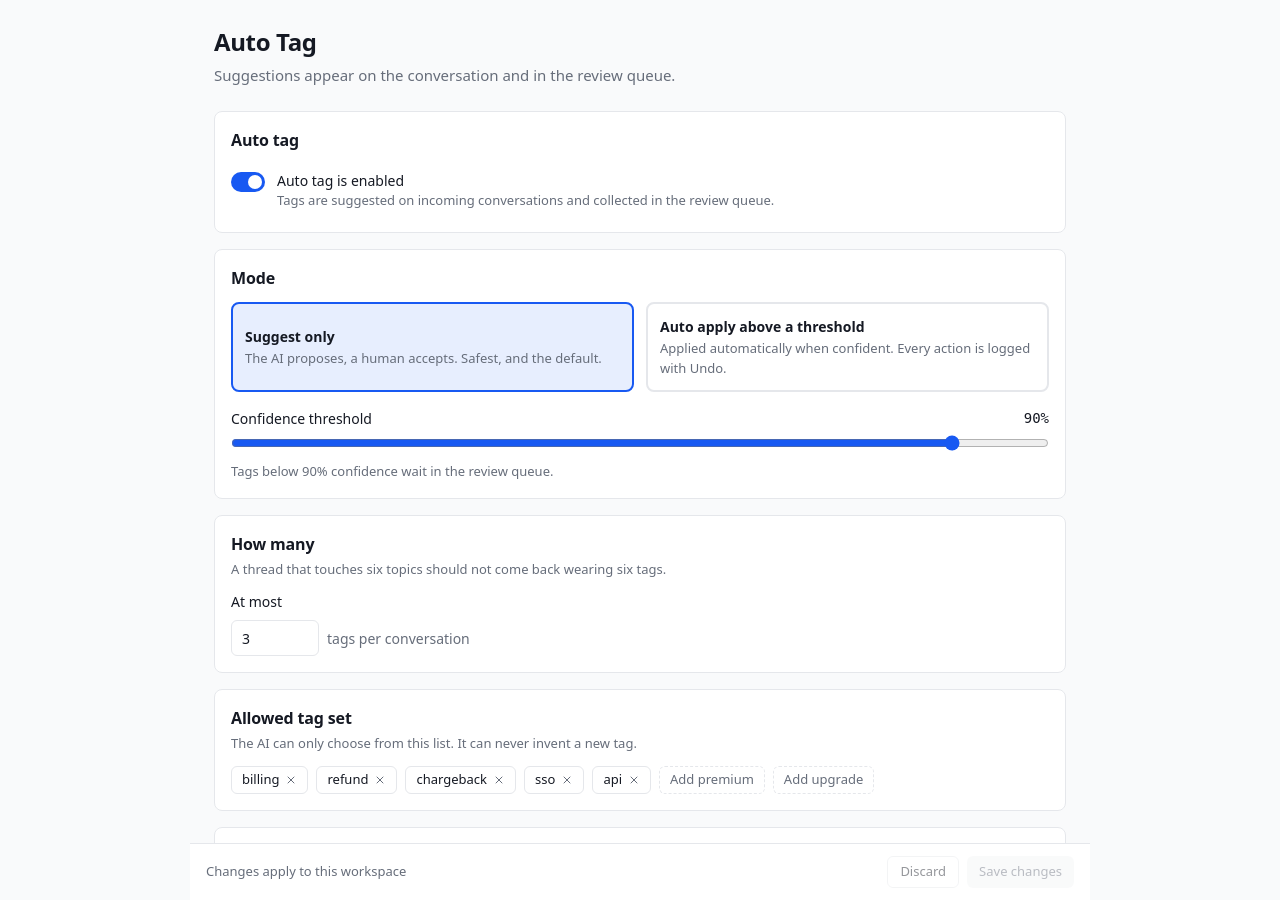
the allowed tag set › disables the auto apply card entirely while the list is empty
Expected: the button "Suggest only" is shown, [231,302,634,392]
Click the button named "remove " at x=292, y=780, box [286,774,298,786]
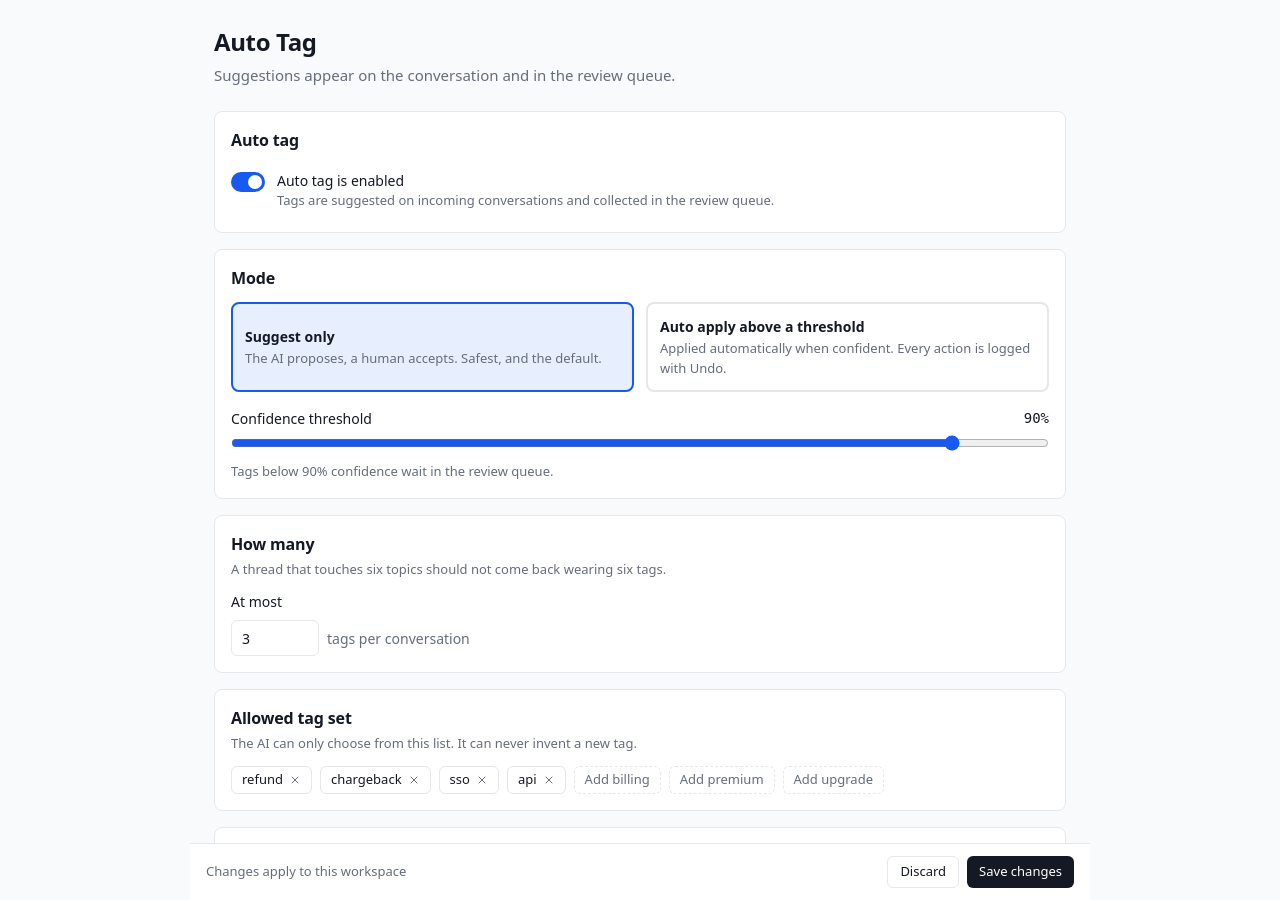
Click the button named "remove " at x=295, y=780, box [289,774,301,786]
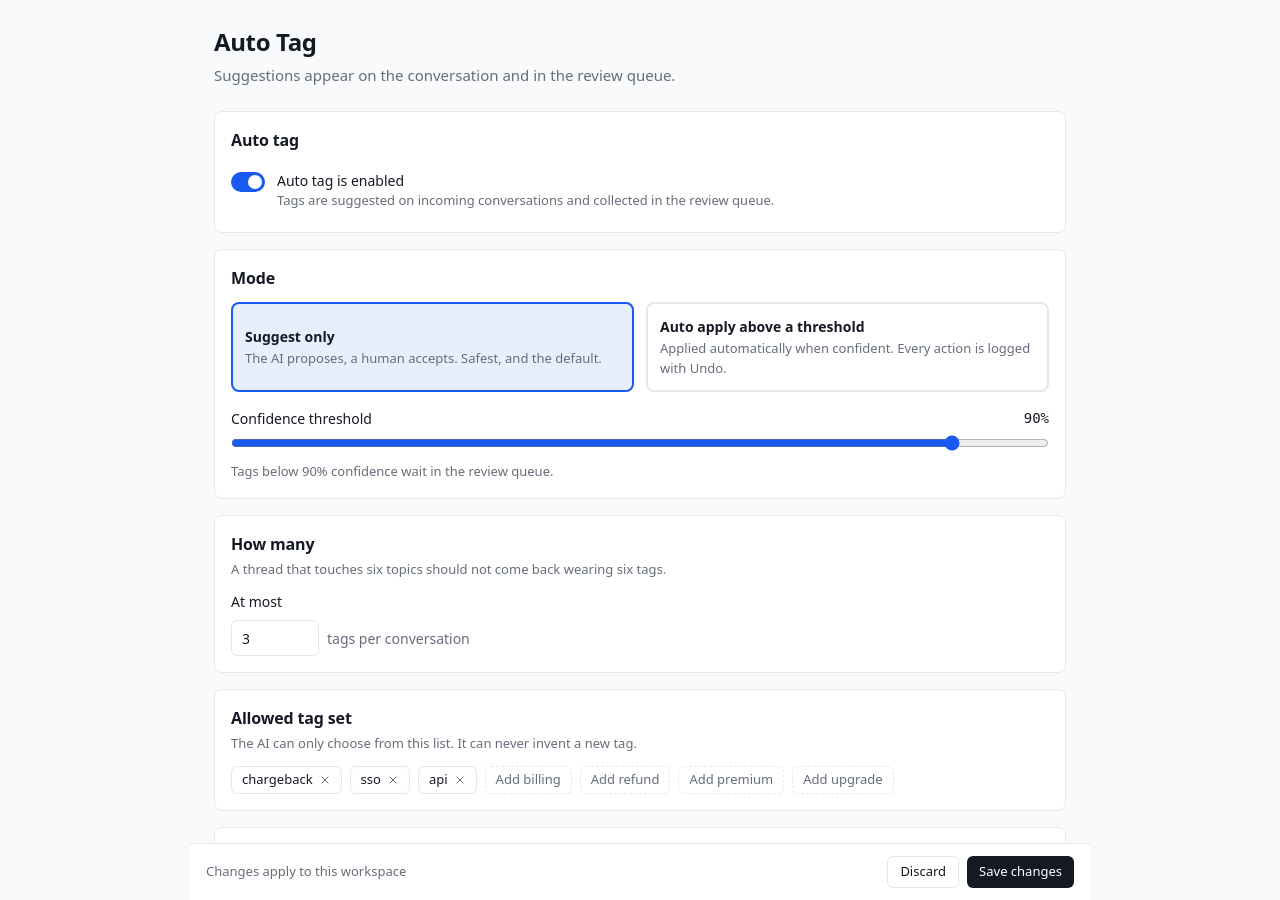
Click the button named "remove " at x=325, y=780, box [319,774,331,786]
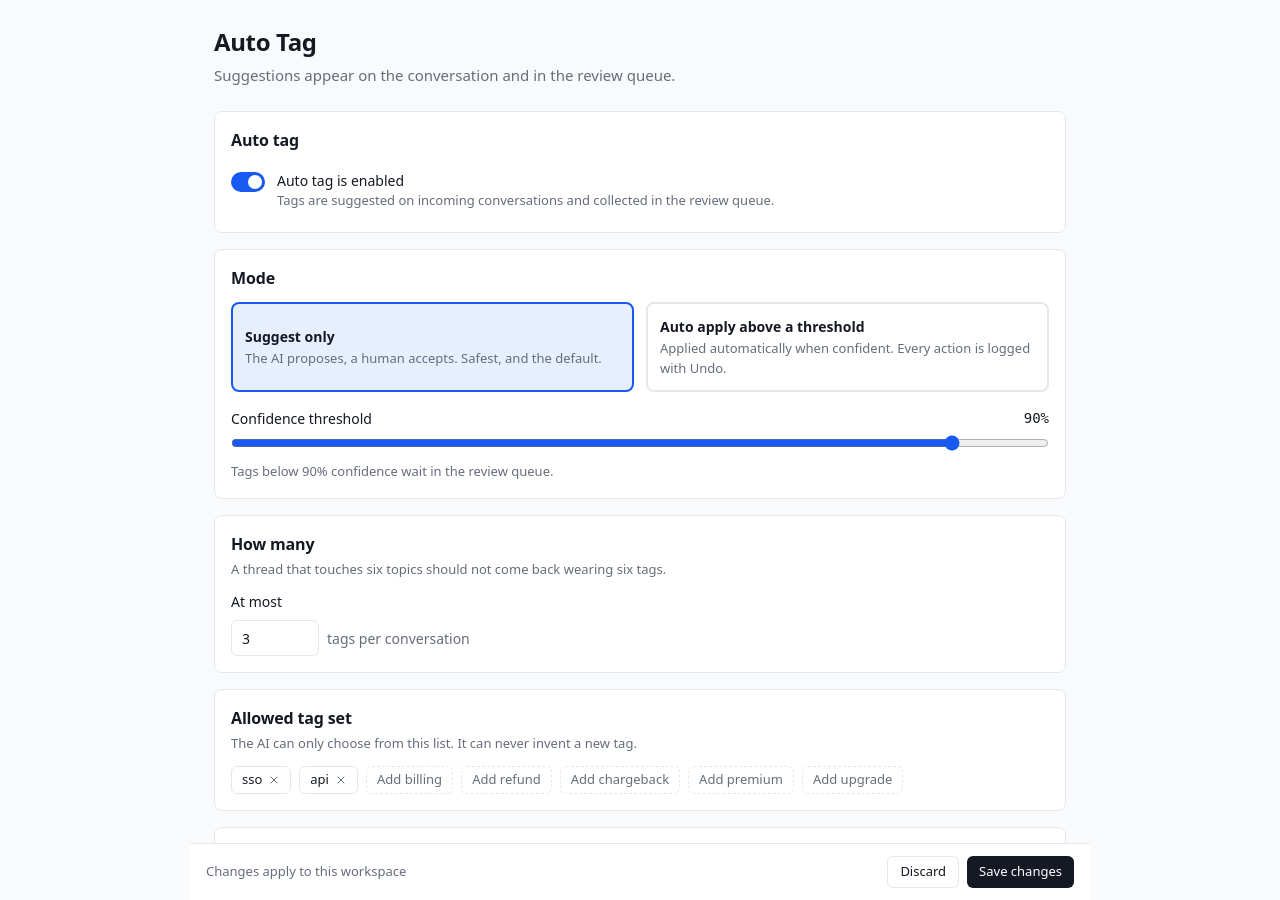
Click the button named "remove " at x=274, y=780, box [268,774,280,786]
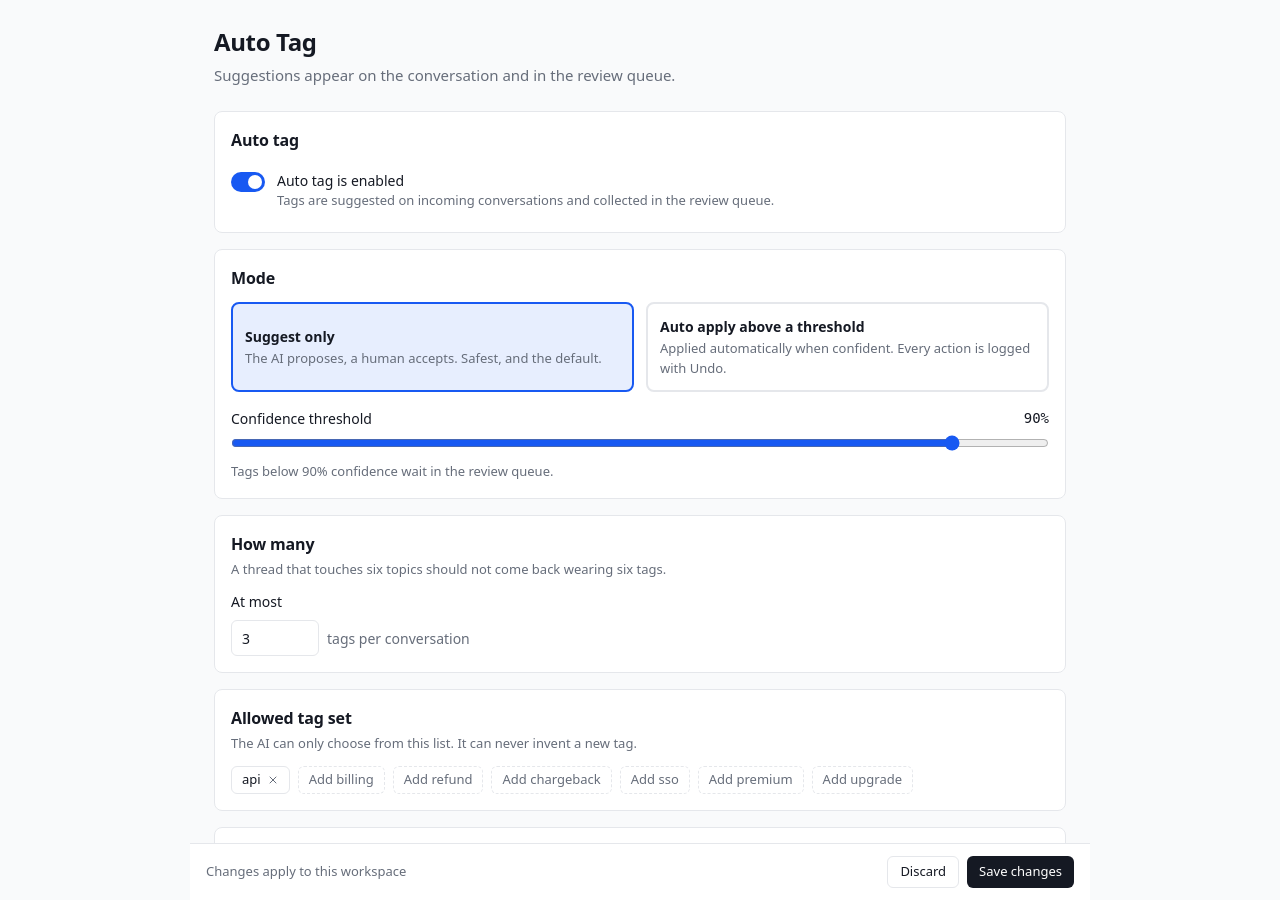
Click the button named "remove " at x=273, y=780, box [267,774,279,786]
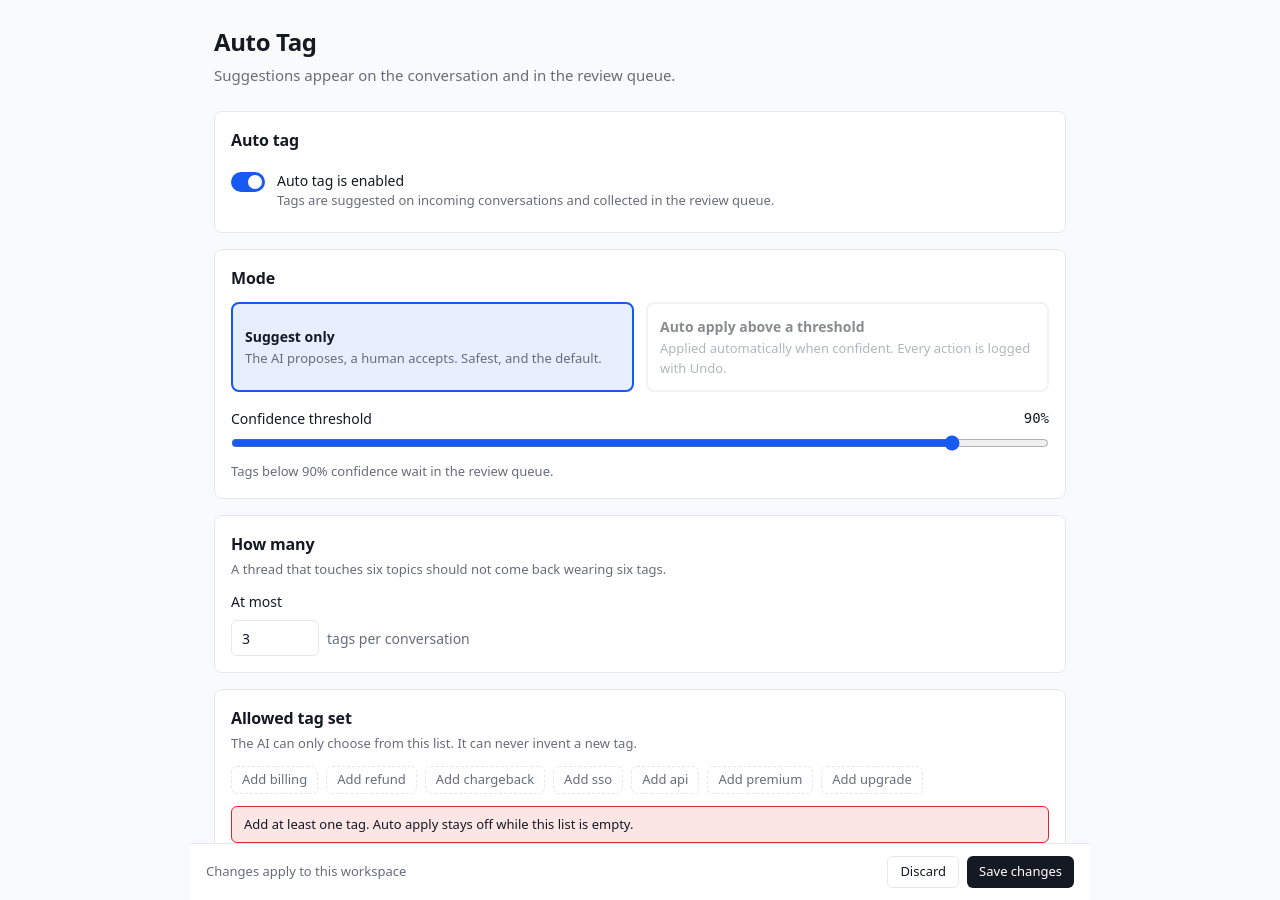
Expected: the button "Auto apply above a threshold" is disabled, [646,302,1049,392]
Expected: the message shows "Auto apply stays off while this list is empty", [244,814,634,832]
